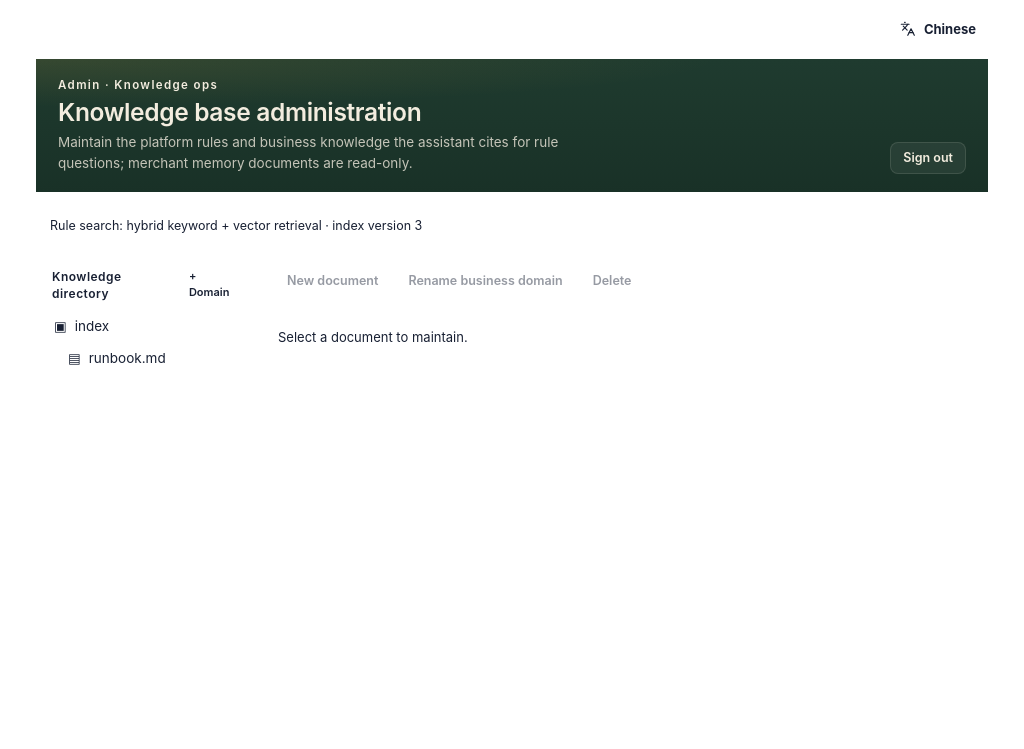
Scenario: KnowledgeBaseView en-US 下确定性文案为英文 › 文档保存冲突（412）时编辑器展示英文提示，且加载态与选择文档提示均为英文
Click the button "▤ runbook.md" at (148, 359), box [46,343,250,375]
(page scrolled)
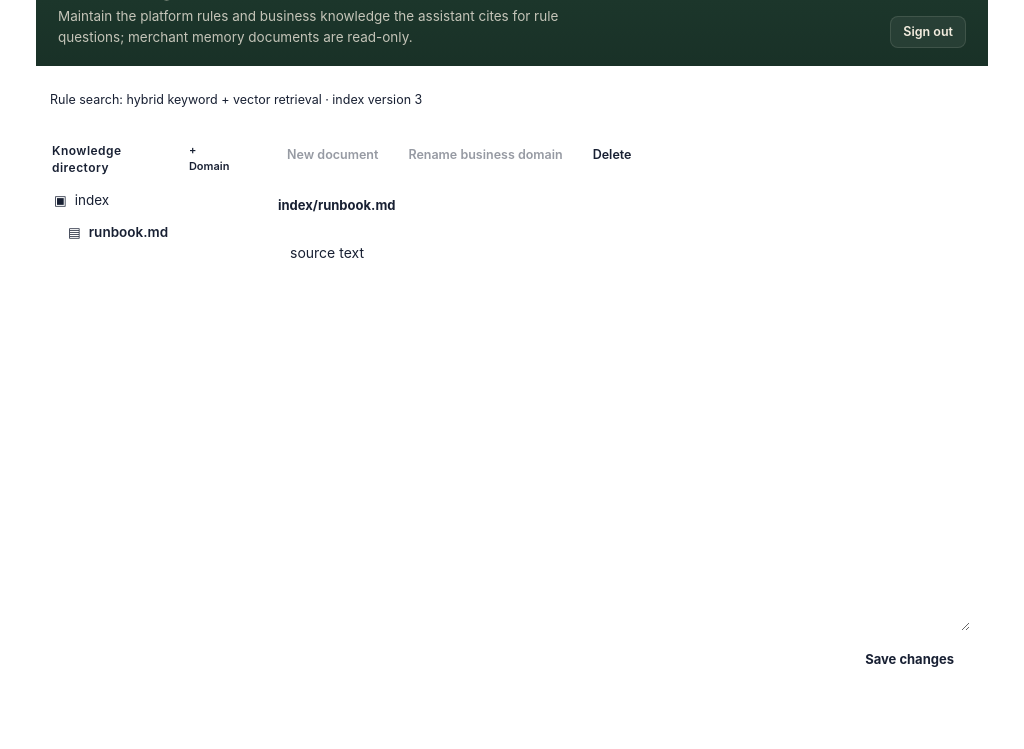
Now the button with test id "save" reads "Save changes"
Click the button with test id "save" at (910, 660), box [849,643,970,677]
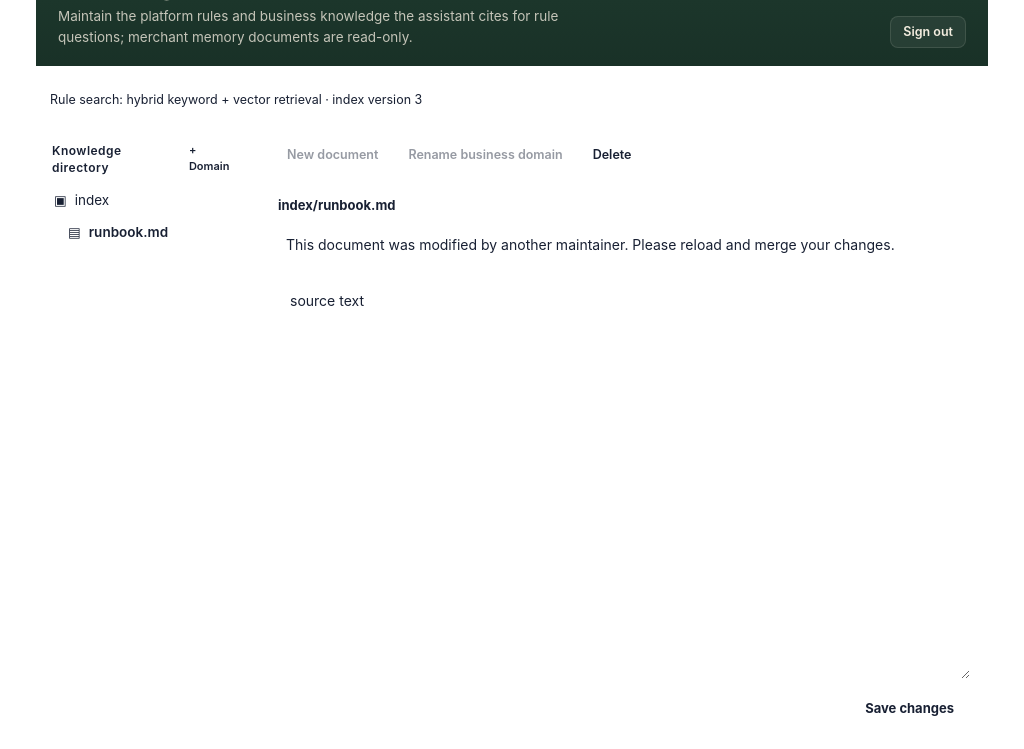
Now the text "This document was modified by another maintainer" is shown, box [286,236,895,253]
